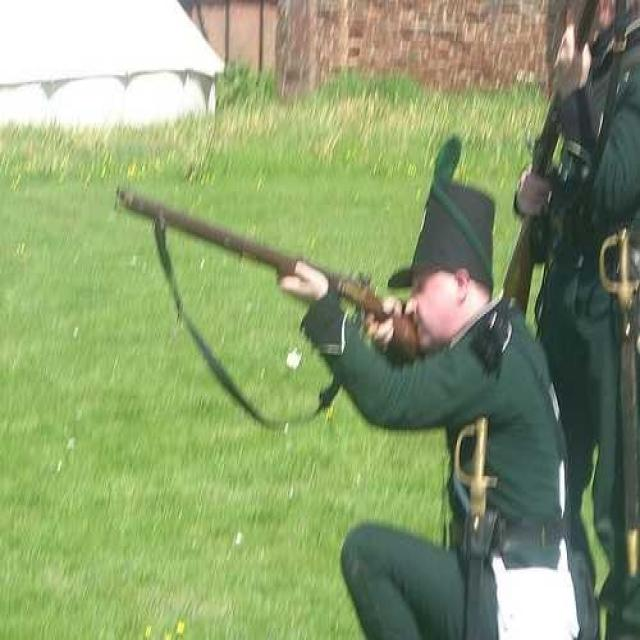heavyweapon: (109, 156, 445, 426), (490, 1, 620, 320)
